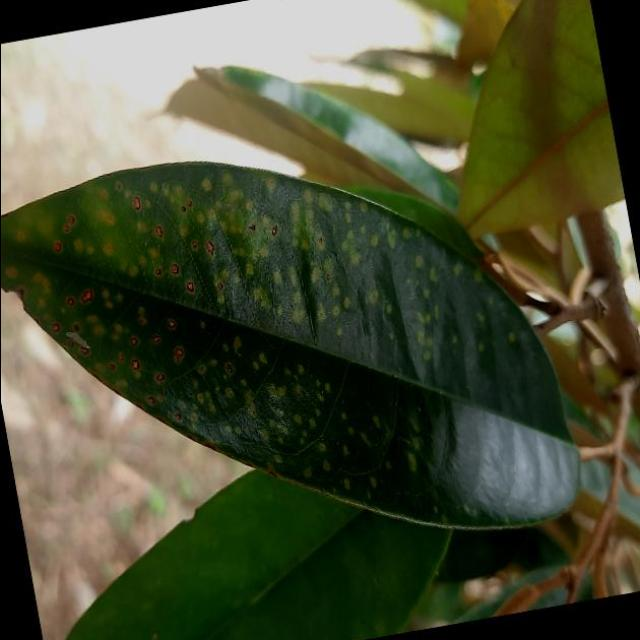Leaf Spot: (0, 86, 604, 624)
